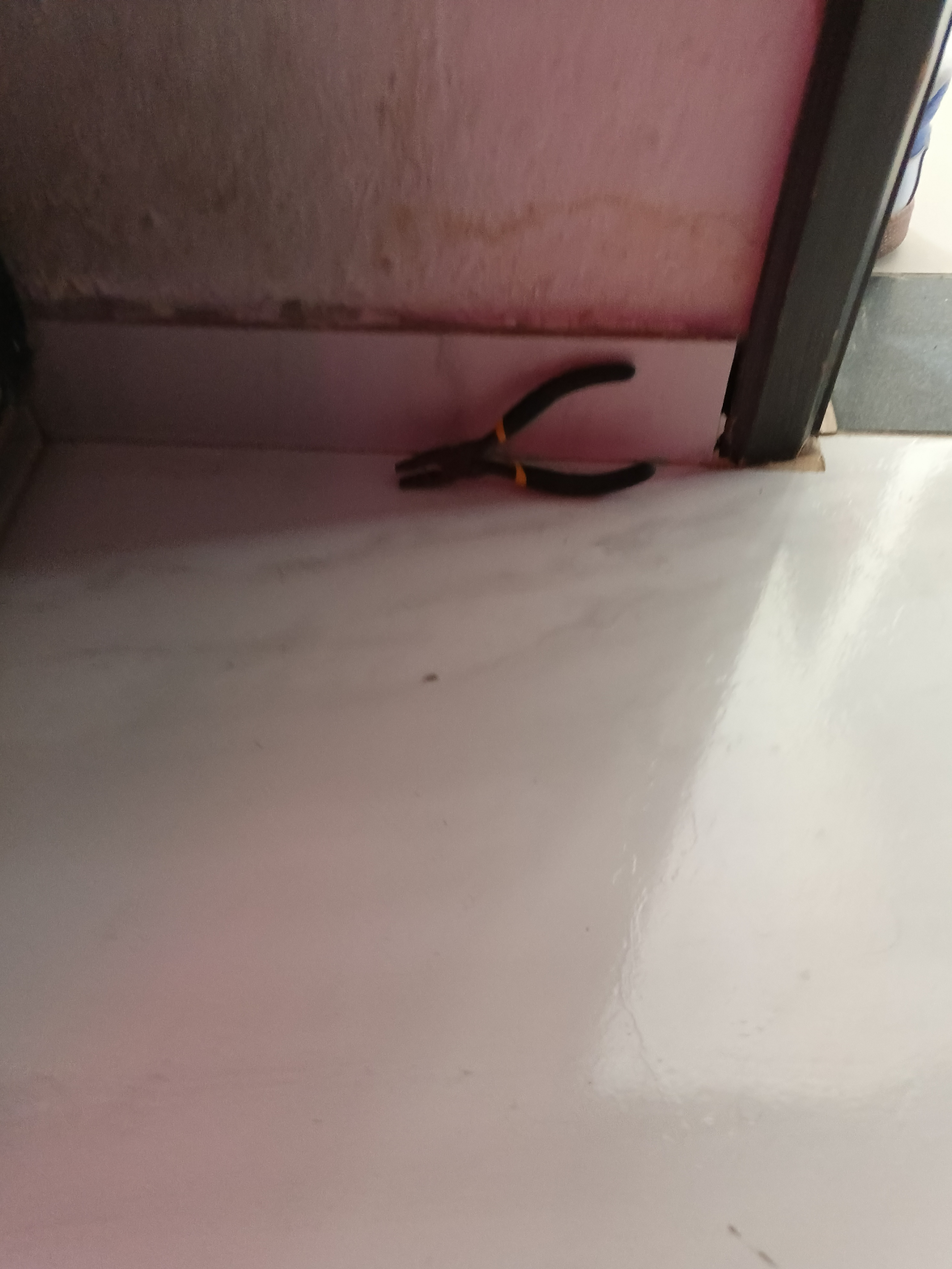Pinzas: (397, 362, 655, 496)
